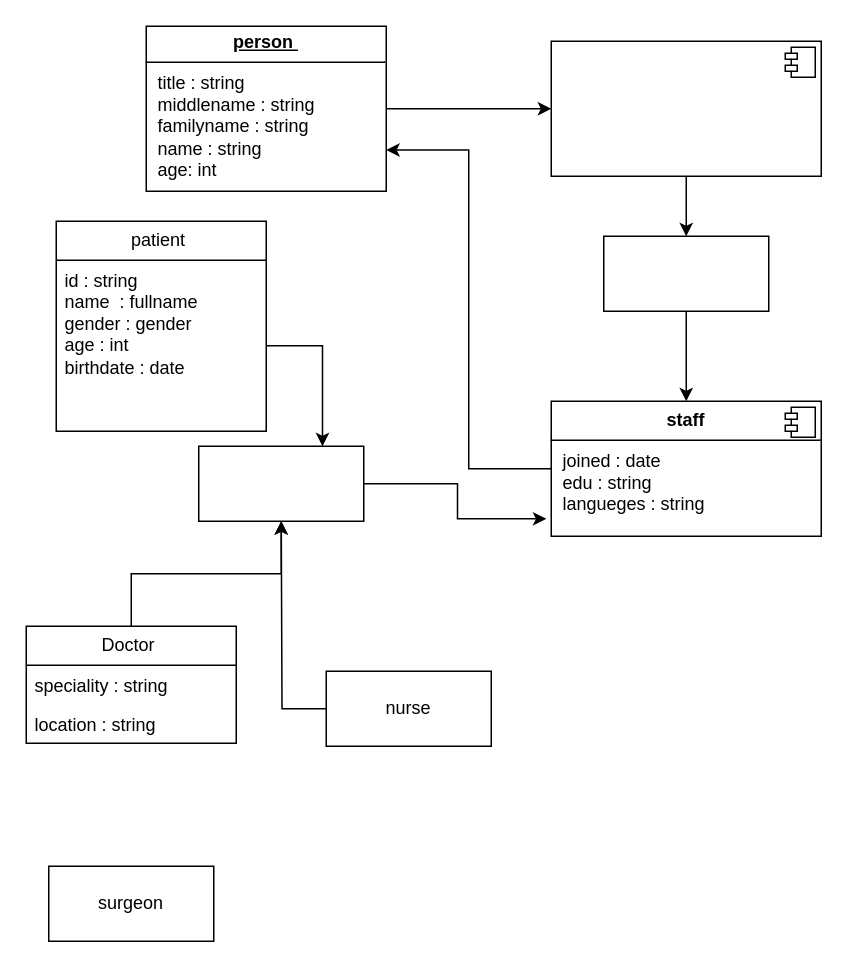
Some shapes in this 848 by 968 pixel diagram are drawn without their labels. The centre of each missing label's shape, as x and y in pixels:
"deparment" belongs at (x=685, y=273).
"hospital name : stirng address : address phone : int" belongs at (x=685, y=108).
"staff" belongs at (x=280, y=483).
